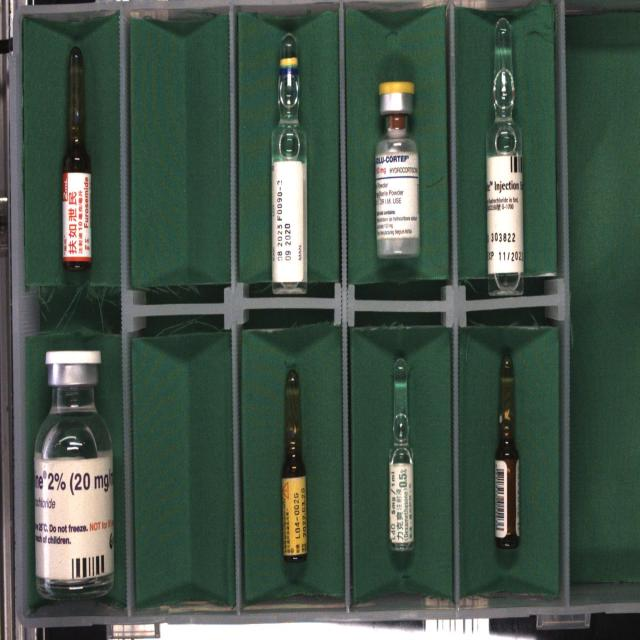Vials: (34, 350, 114, 598), (375, 82, 420, 258)
